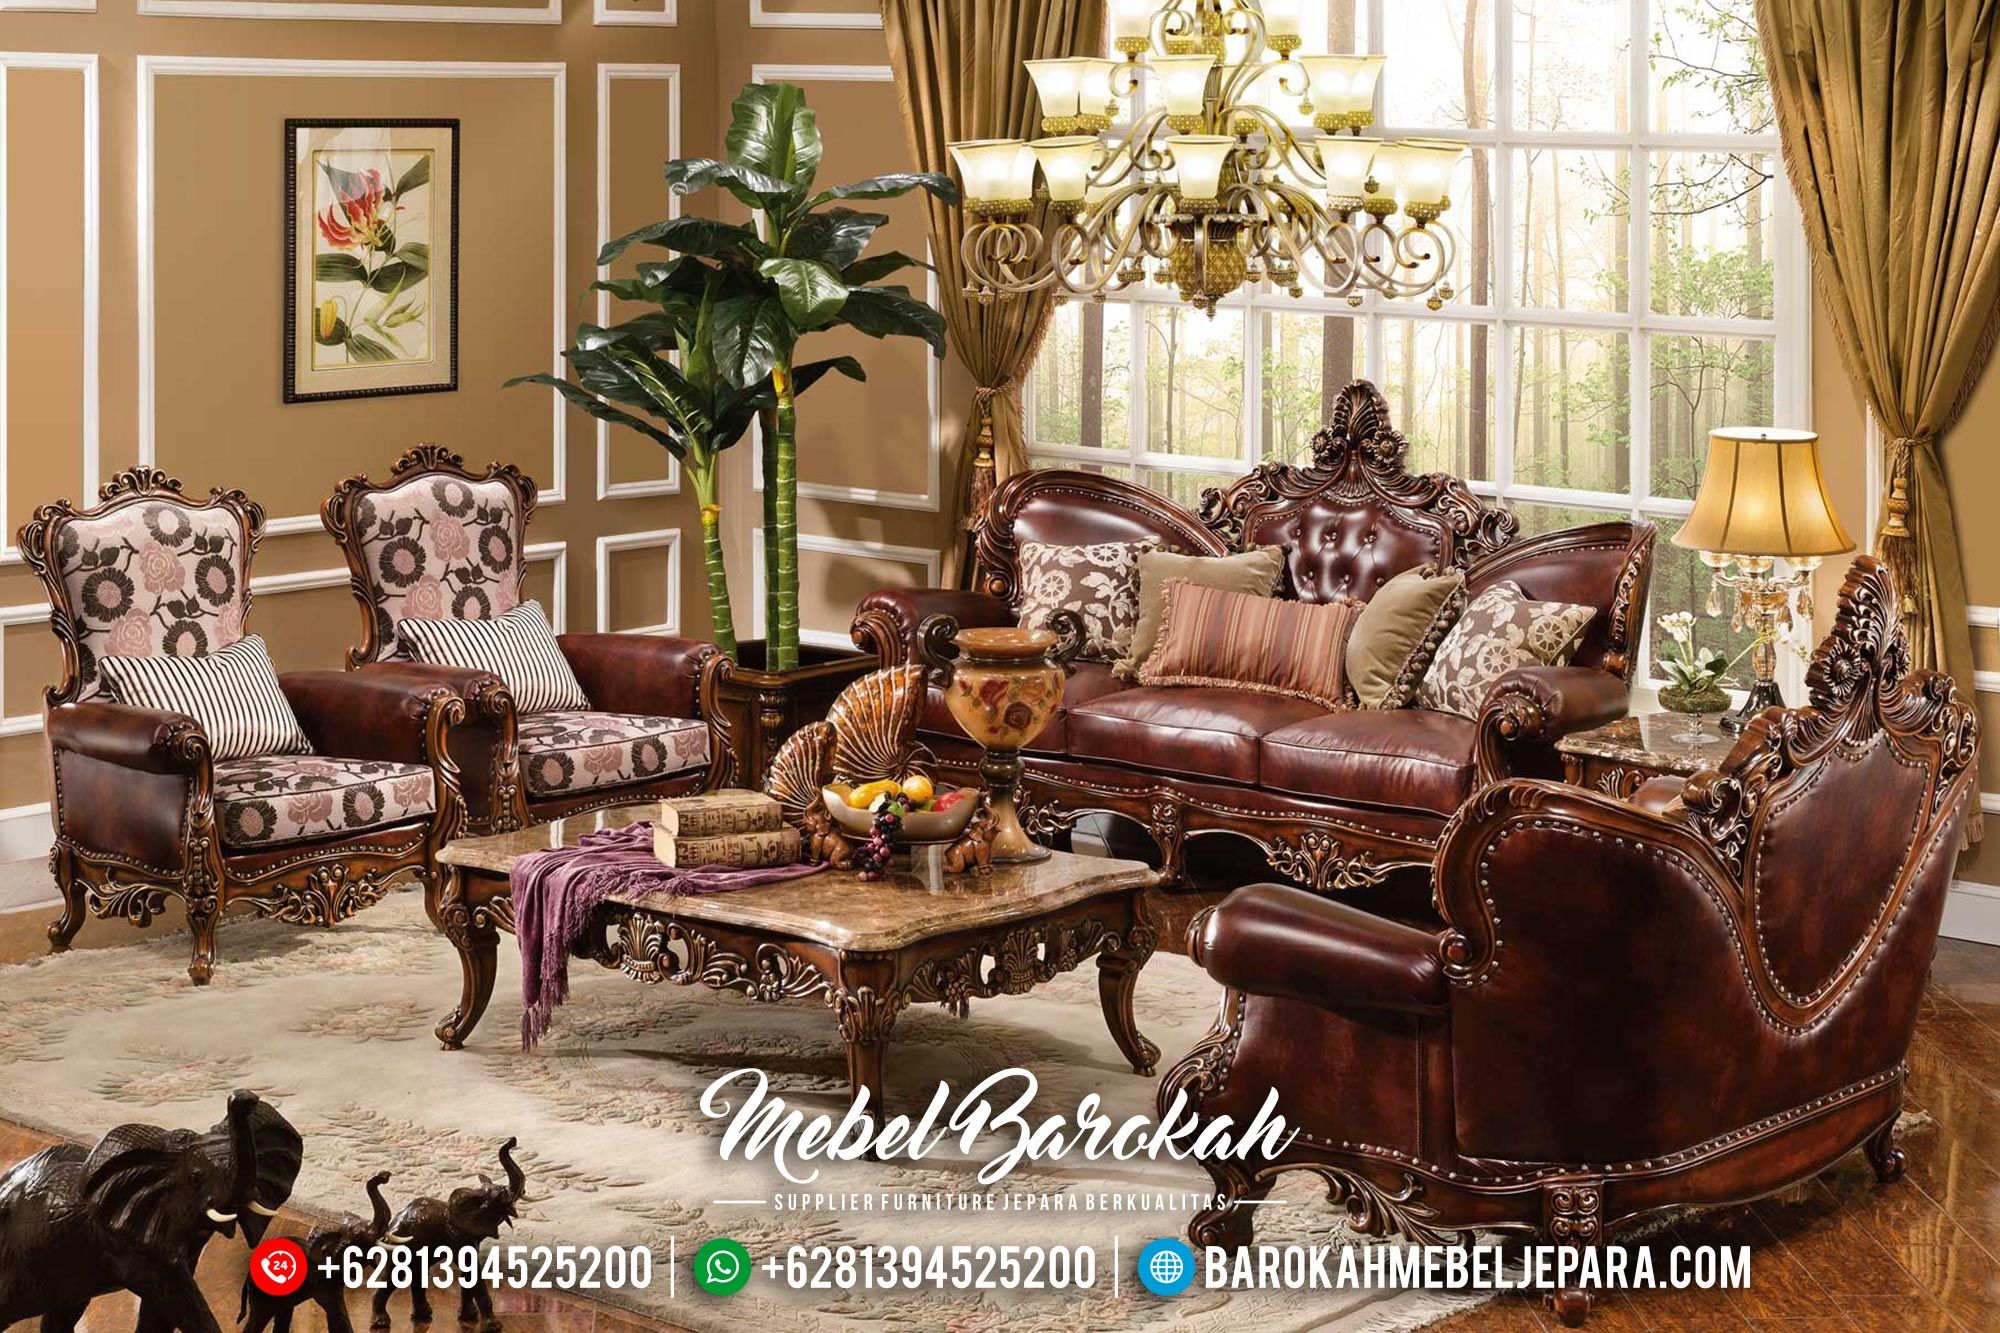Carving Chair: (1236, 719, 2000, 1276), (955, 446, 1622, 922), (28, 454, 425, 927), (329, 443, 743, 847)
Carving Table: (439, 769, 1178, 1110)
